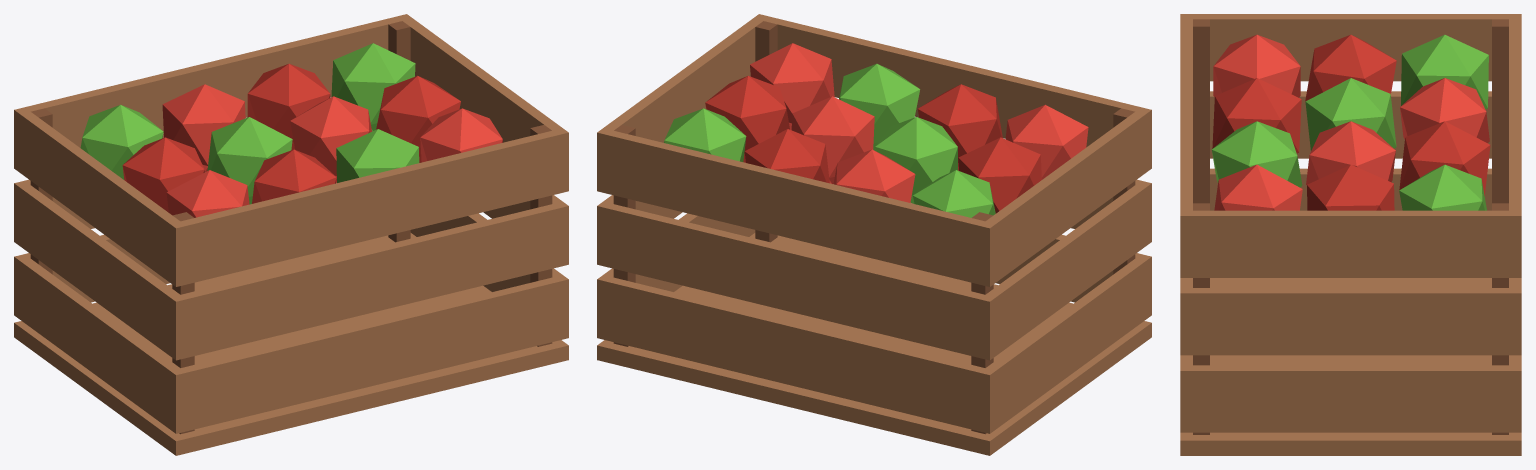
The model's file is wooden_crate.glb.
3 views of the same model, side by side, from view 1: azimuth 30°, elevation 25°; view 2: azimuth 150°, elevation 25°; view 3: azimuth 270°, elevation 25° (orthographic). The views are drawn at different scales.
Visible parts, largest first — view 1: wooden_crate; view 2: wooden_crate; view 3: wooden_crate.
Part boxes in pixels (x1,y1,x2,y2): wooden_crate: [14, 14, 568, 455]; wooden_crate: [597, 14, 1151, 455]; wooden_crate: [1180, 14, 1521, 455].
Bounding box in the file's own units: 0.56 × 0.33 × 0.4.
